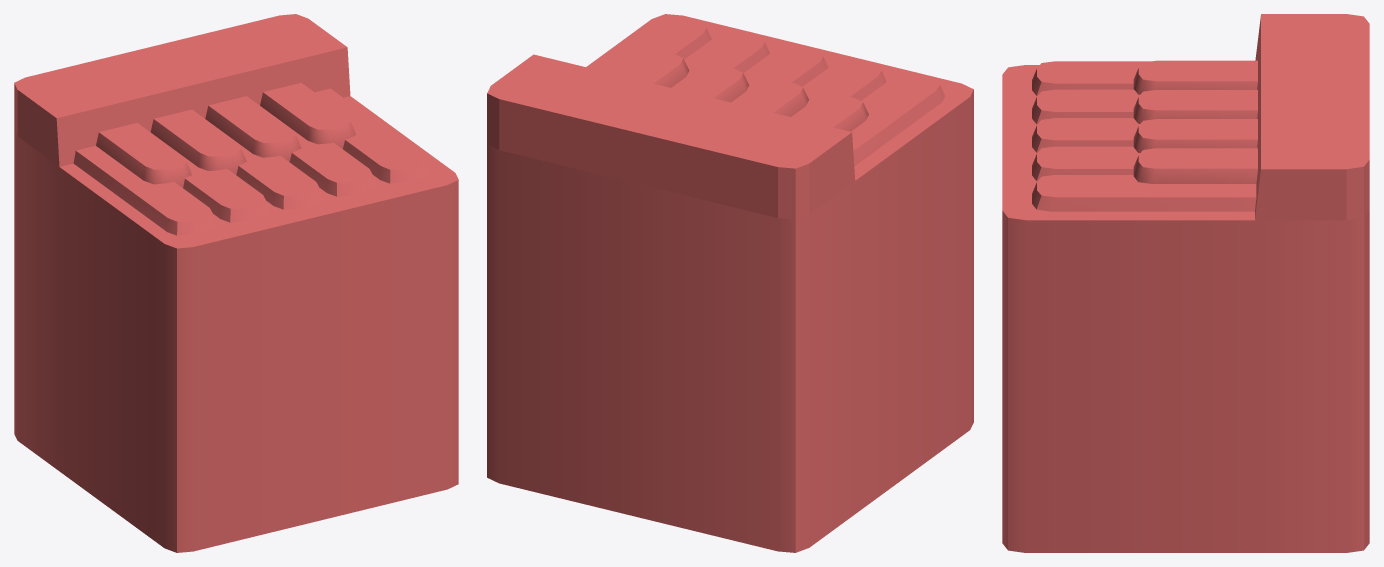
The model's file is piano.glb.
The picture shows the model from 3 angles, left to right: view 1: azimuth 30°, elevation 25°; view 2: azimuth 150°, elevation 25°; view 3: azimuth 270°, elevation 25°; orthographic projection. The views are drawn at different scales.
Visible parts, largest first — view 1: piano; view 2: piano; view 3: piano.
Part boxes in pixels (<box>): piano: <box>14,14,458,552</box>; piano: <box>487,14,973,552</box>; piano: <box>1002,14,1369,552</box>.
Size of the model in its own units: 0.9 by 1.04 by 0.9.
